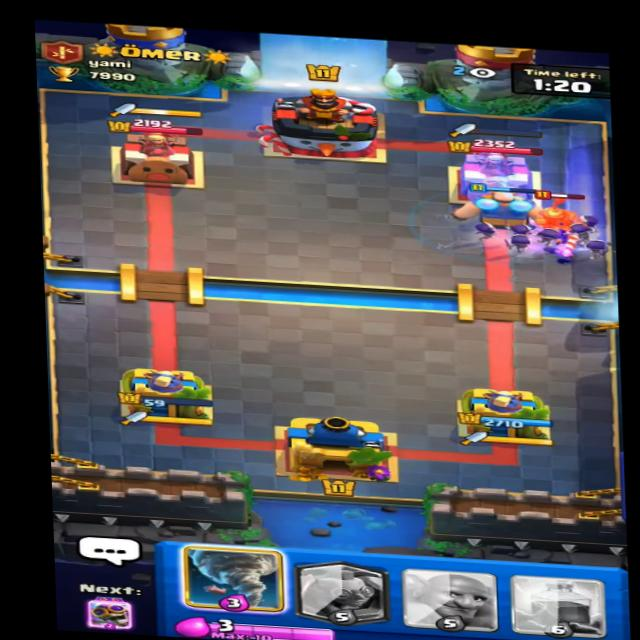Prince: (523, 184, 589, 254)
